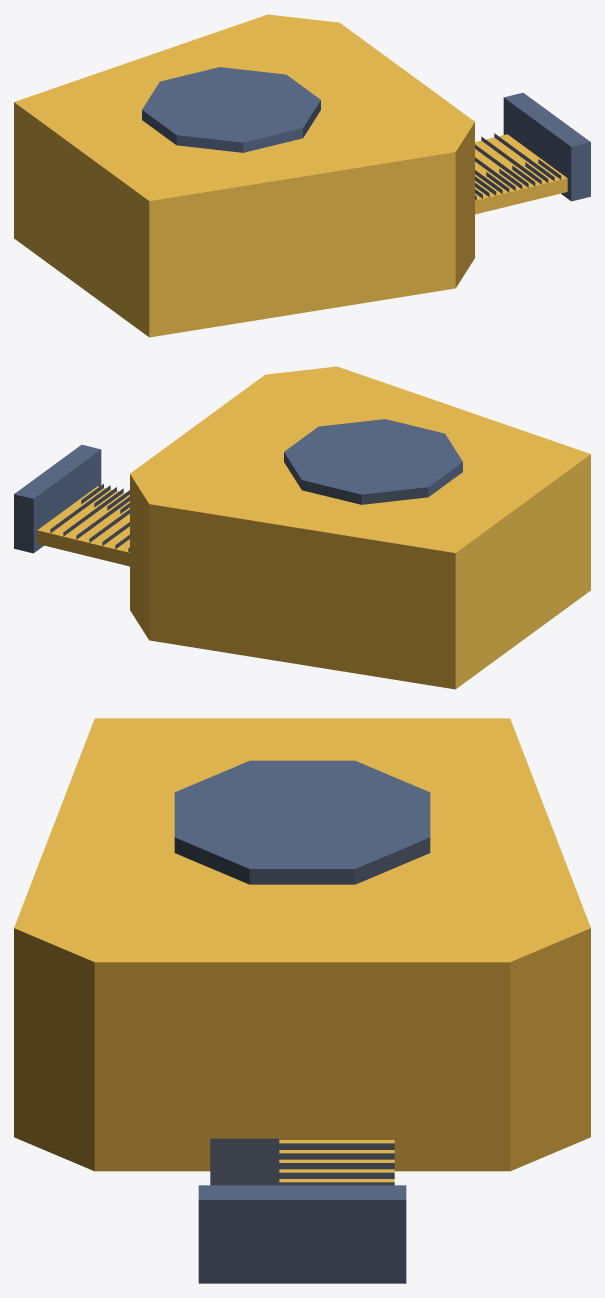
File: tape_measure.glb
3 views of the same model, one above another, from view 1: azimuth 30°, elevation 25°; view 2: azimuth 150°, elevation 25°; view 3: azimuth 270°, elevation 25° (orthographic). The views are drawn at different scales.
Parts seen in each view (by area): view 1: housing, tape, tape_end; view 2: housing, tape, tape_end; view 3: housing, tape_end, tape.
Part boxes in pixels (x1,y1,x2,y2): housing: (14,14,474,337); tape: (475,133,567,214); tape_end: (503,92,590,201); housing: (130,366,590,689); tape: (37,484,129,566); tape_end: (14,444,101,553); housing: (14,718,590,1171); tape_end: (198,1185,406,1283); tape: (210,1138,394,1185).
Bounding box in the file's own units: 0.073 × 0.0215 × 0.05.
